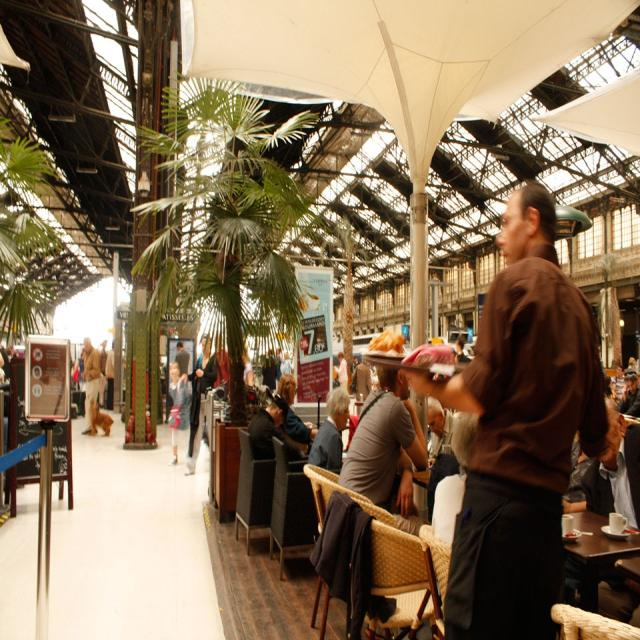body: (398, 177, 601, 639), (336, 361, 429, 539), (578, 395, 640, 628), (581, 307, 639, 436), (430, 409, 480, 548), (0, 337, 80, 406), (182, 333, 219, 461), (307, 385, 351, 476), (272, 372, 319, 445), (246, 386, 291, 461), (167, 360, 194, 469), (424, 395, 459, 472), (562, 430, 590, 516), (80, 336, 102, 437), (350, 353, 373, 418), (257, 340, 295, 373), (213, 336, 232, 398), (70, 346, 86, 414), (619, 367, 640, 417), (236, 336, 253, 389), (104, 340, 115, 412), (611, 363, 627, 412), (173, 340, 191, 383), (261, 349, 277, 395), (333, 350, 349, 391), (366, 363, 385, 393), (273, 343, 282, 404), (452, 336, 468, 363), (628, 355, 640, 390), (99, 337, 109, 377), (279, 350, 293, 377)
